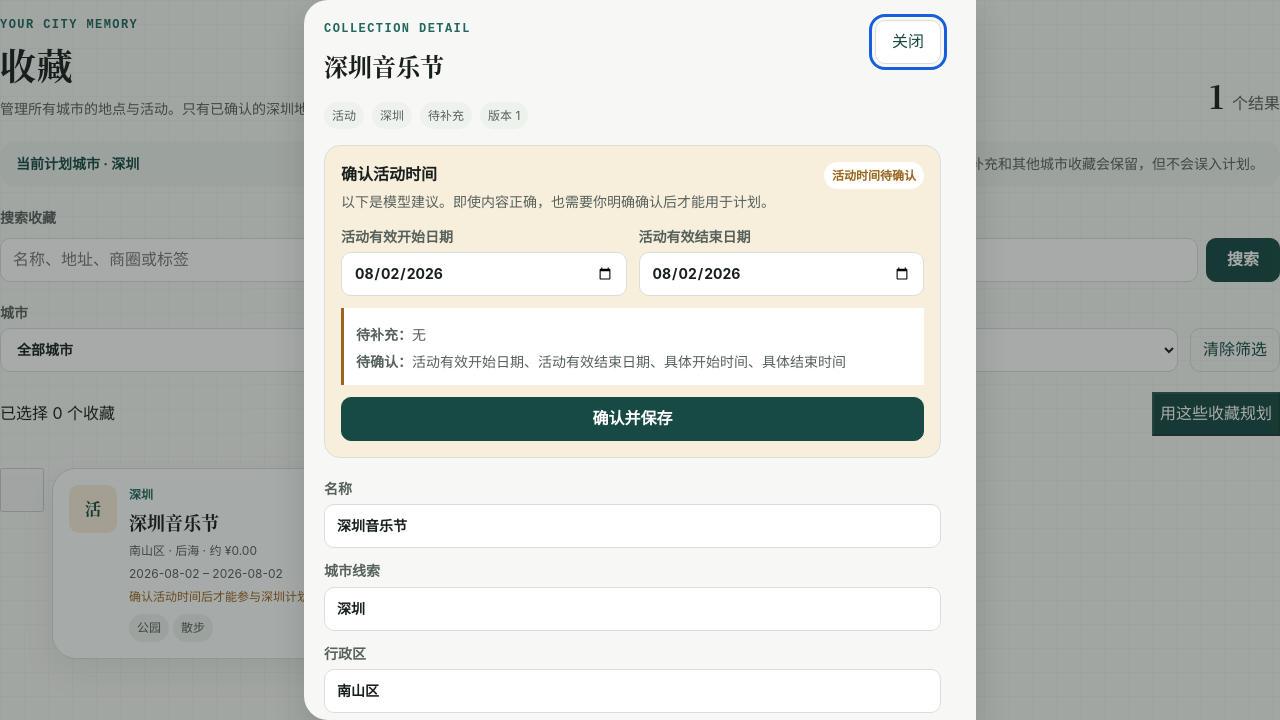
CollectionsExperience › shows and submits only effective dates for a date-range Event
The image size is (1280, 720).
Expected: the date field labelled "活动有效开始日期" is shown, [341,252,626,296]
Click the button "确认并保存": (632,419) [341,397,924,441]
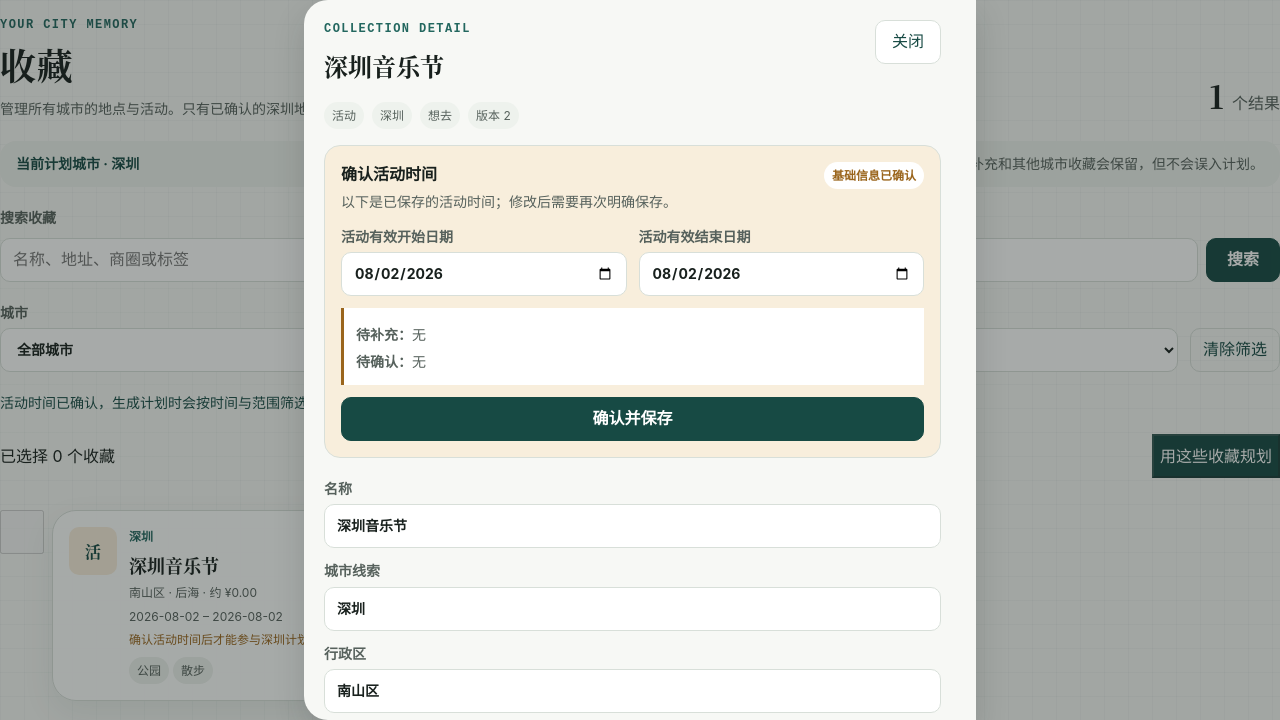
Now the text "活动时间已确认，生成计划时会按时间与范围筛选。" is shown, box [0,394,322,411]
